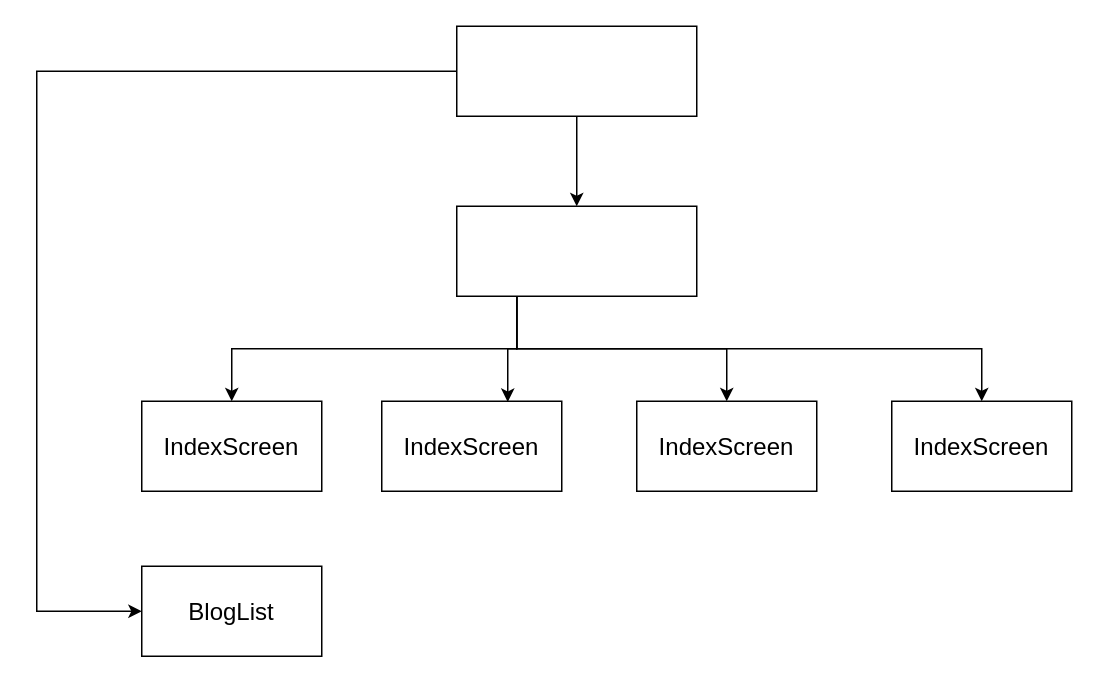
This 1098x683 diagram has some shape labels left out. Each missing label, with the box of its shape:
BlogPost Provider: (455, 25, 697, 116)
React Navigation stack navigator: (455, 205, 697, 296)
